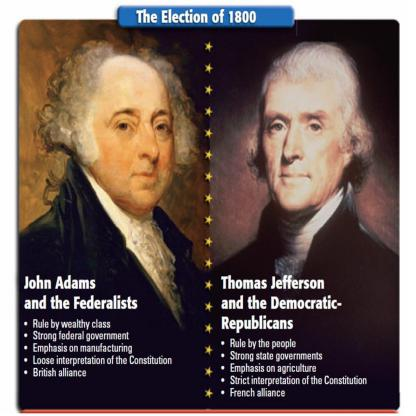face: (101, 79, 180, 213), (264, 79, 343, 210)
